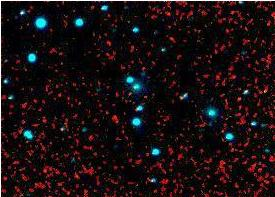star: (117, 78, 147, 108)
